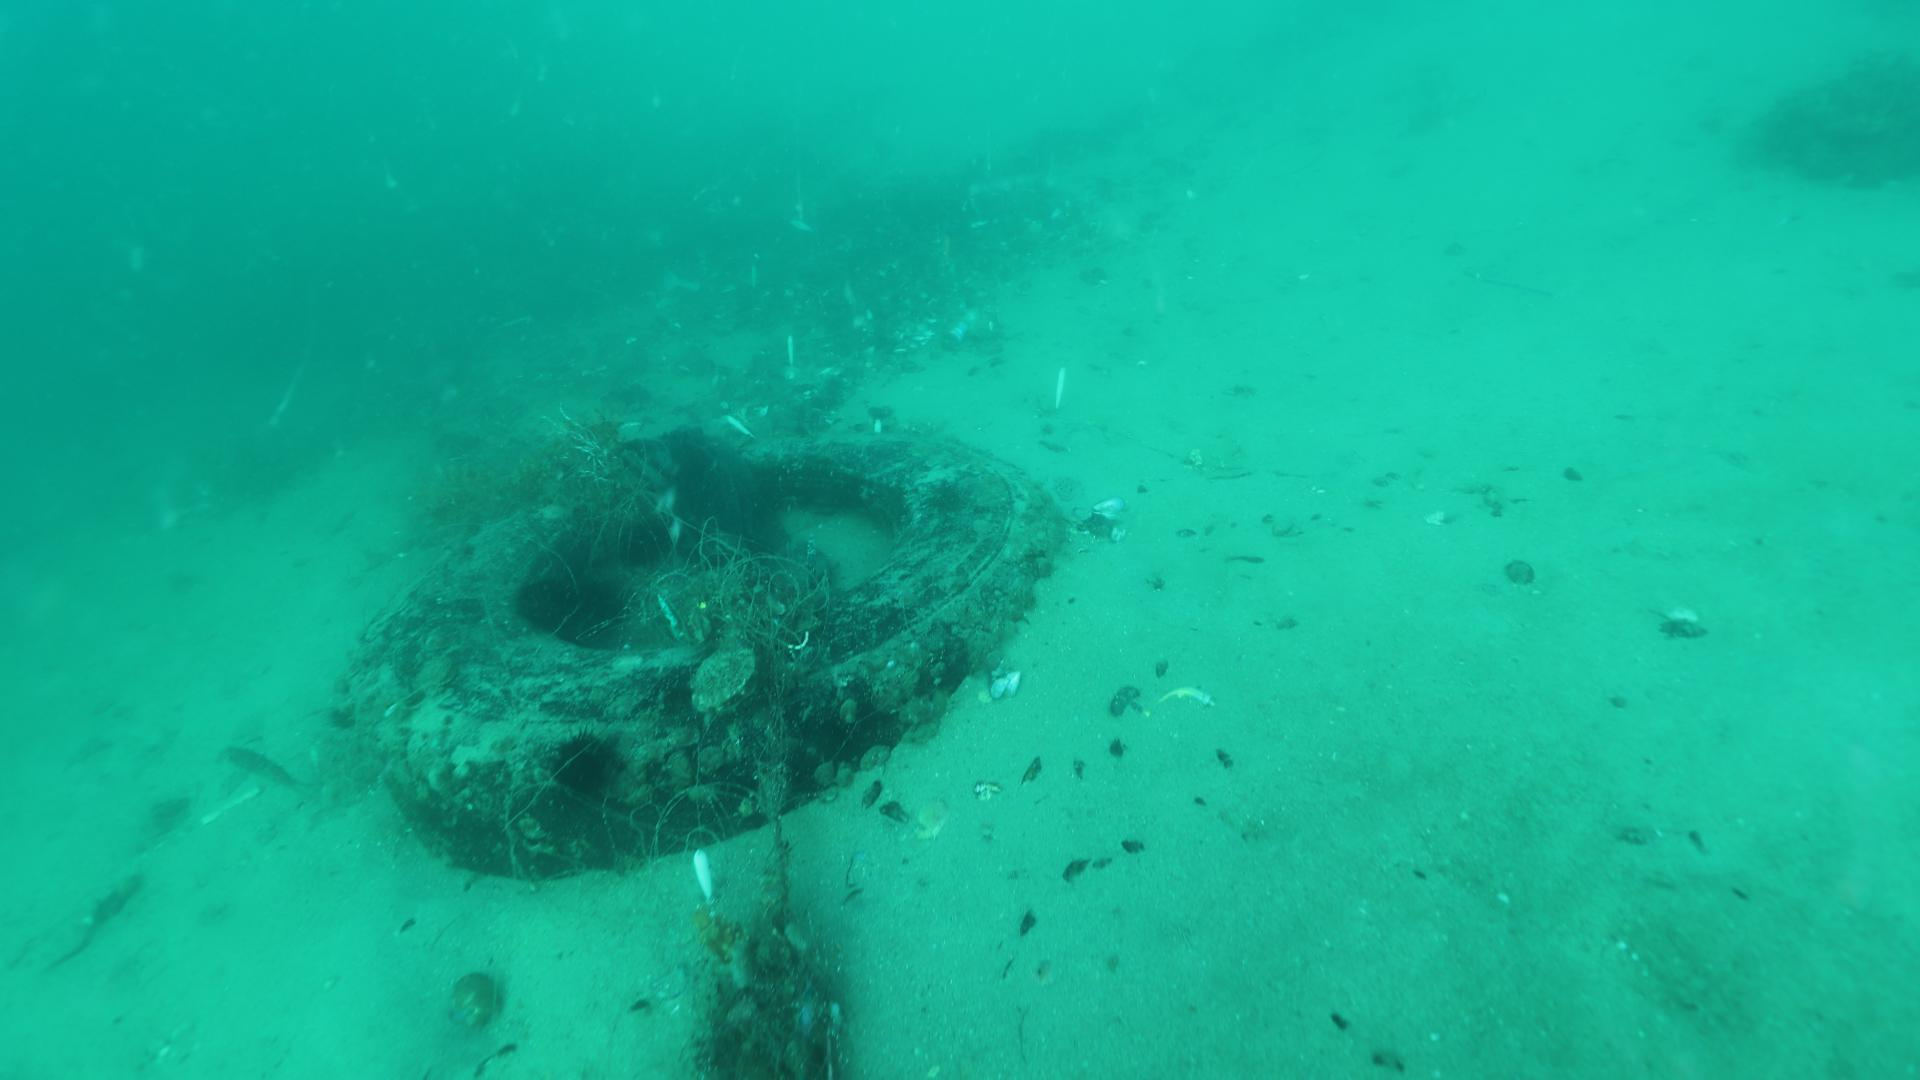tire: (342, 425, 1073, 874)
